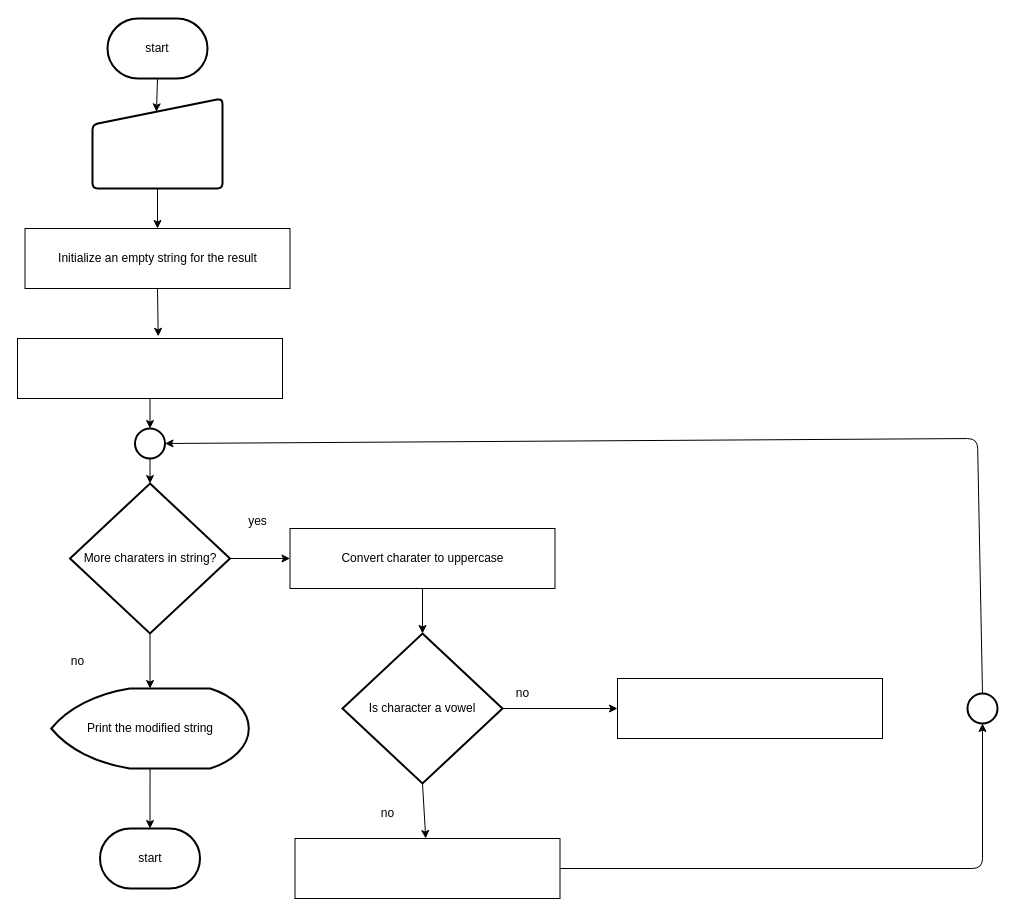
The diagram is 1016 pixels wide and 916 high, and some of its shapes have lost their labels. The shapes that lost their labels are listed below. From the top down, each one's box as (x1, y1, x2, y2) in pixels, then its label:
(91, 97, 223, 189): read input string from the user
(16, 338, 282, 398): Define vowels as "aeiouAEIOU"
(616, 678, 882, 738): Add an asterisk to the result
(294, 838, 560, 898): Add the uppercase character to the result
